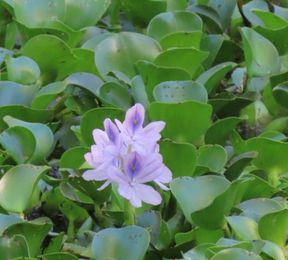water_hyacinth: (0, 0, 288, 260)
